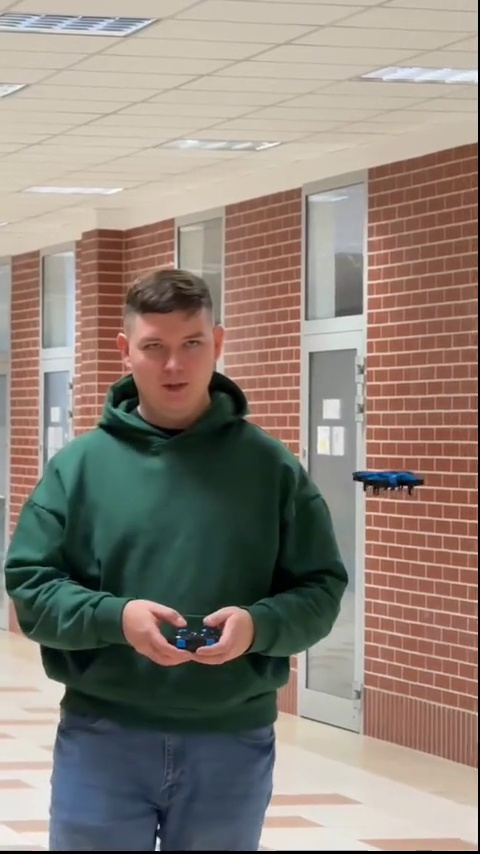drone: (348, 467, 424, 498)
no vest: (10, 269, 347, 826)
